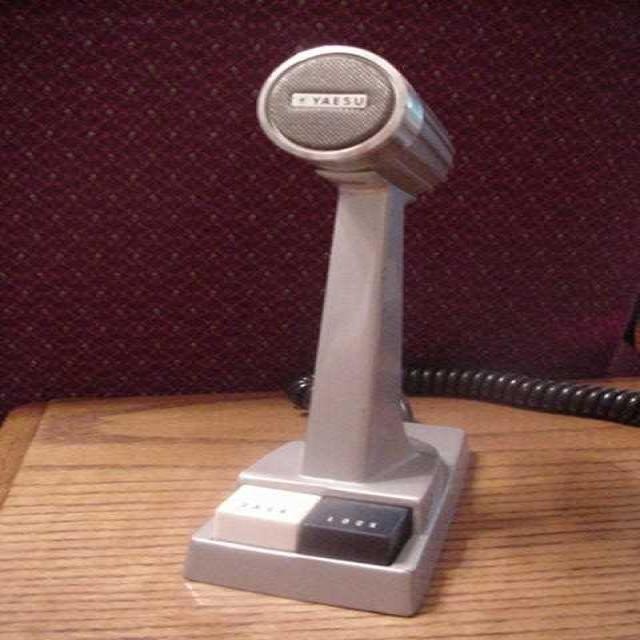microphone: (178, 48, 474, 611), (257, 45, 450, 193)
